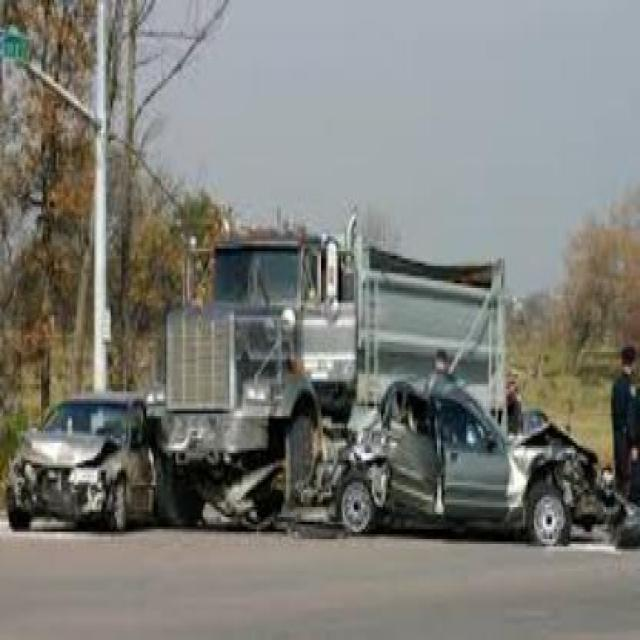accident: (1, 236, 618, 544)
